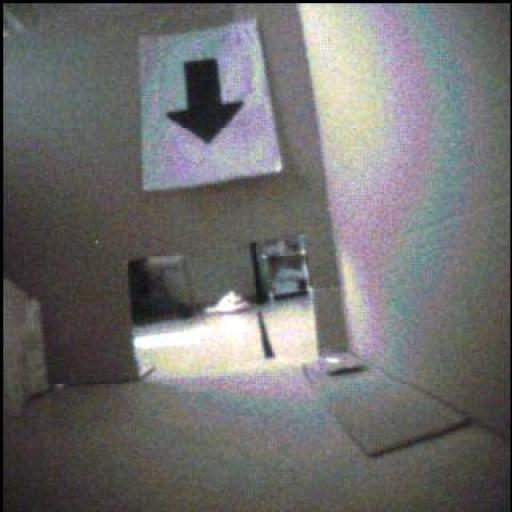arrow: (168, 61, 245, 144)
